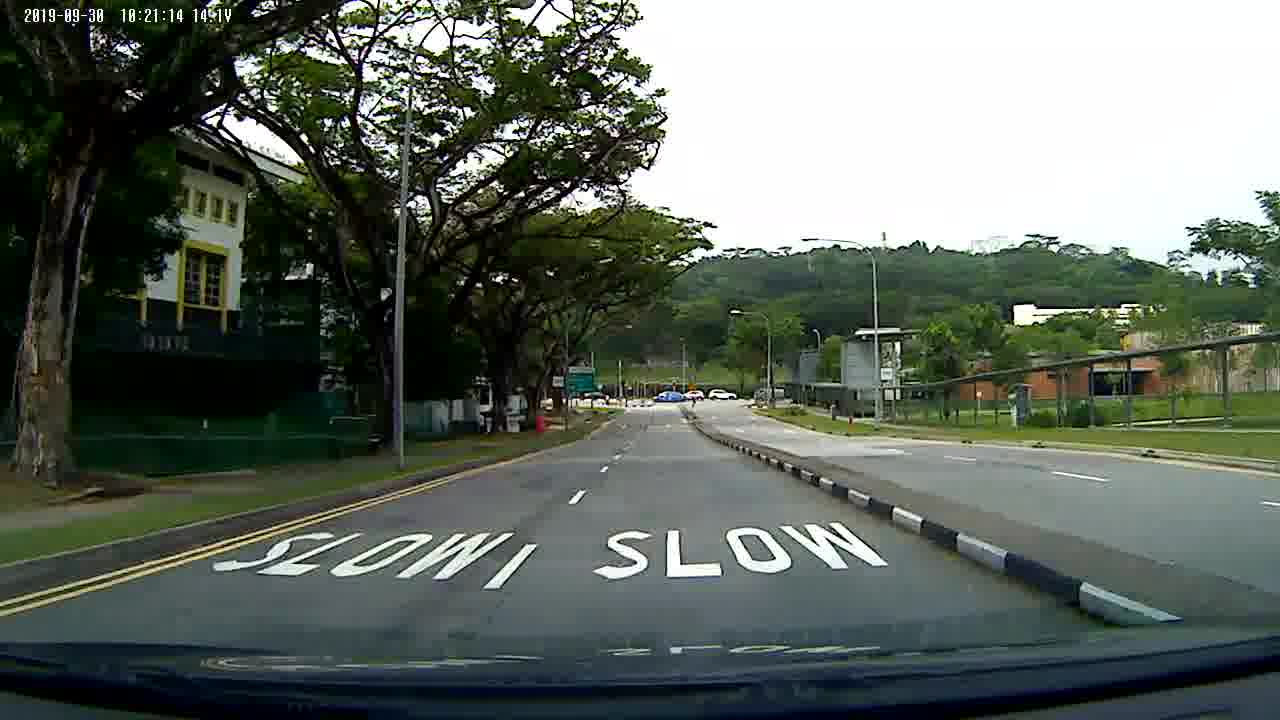car: (708, 386, 739, 401), (652, 390, 686, 403), (678, 388, 703, 399)
